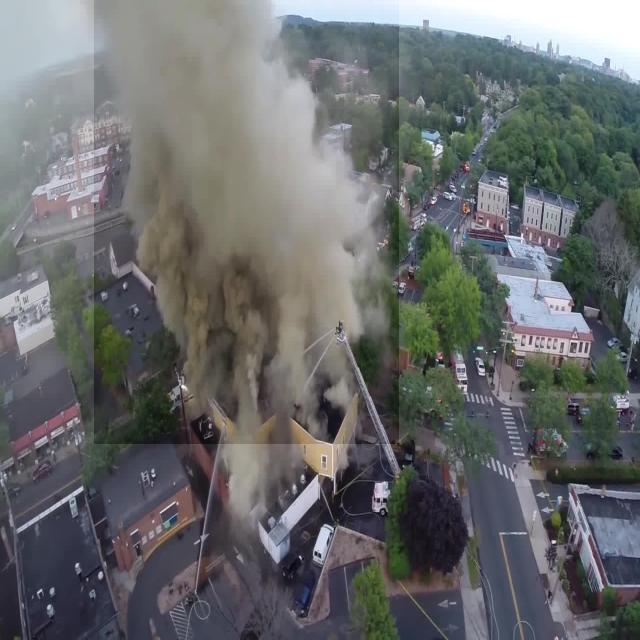Smoke: (94, 0, 399, 444)
